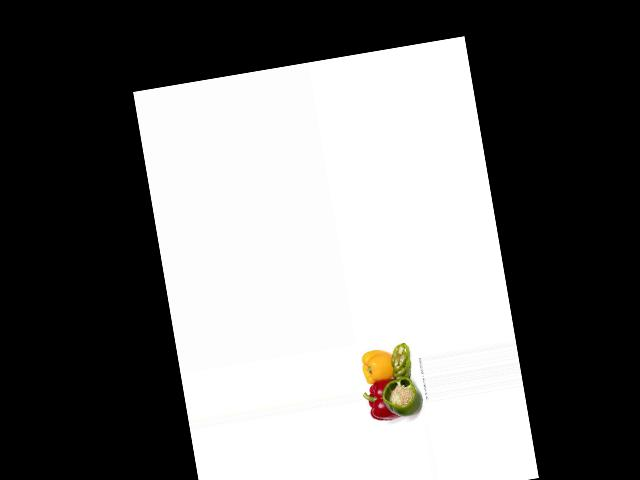bell_pepper: (378, 374, 422, 423)
